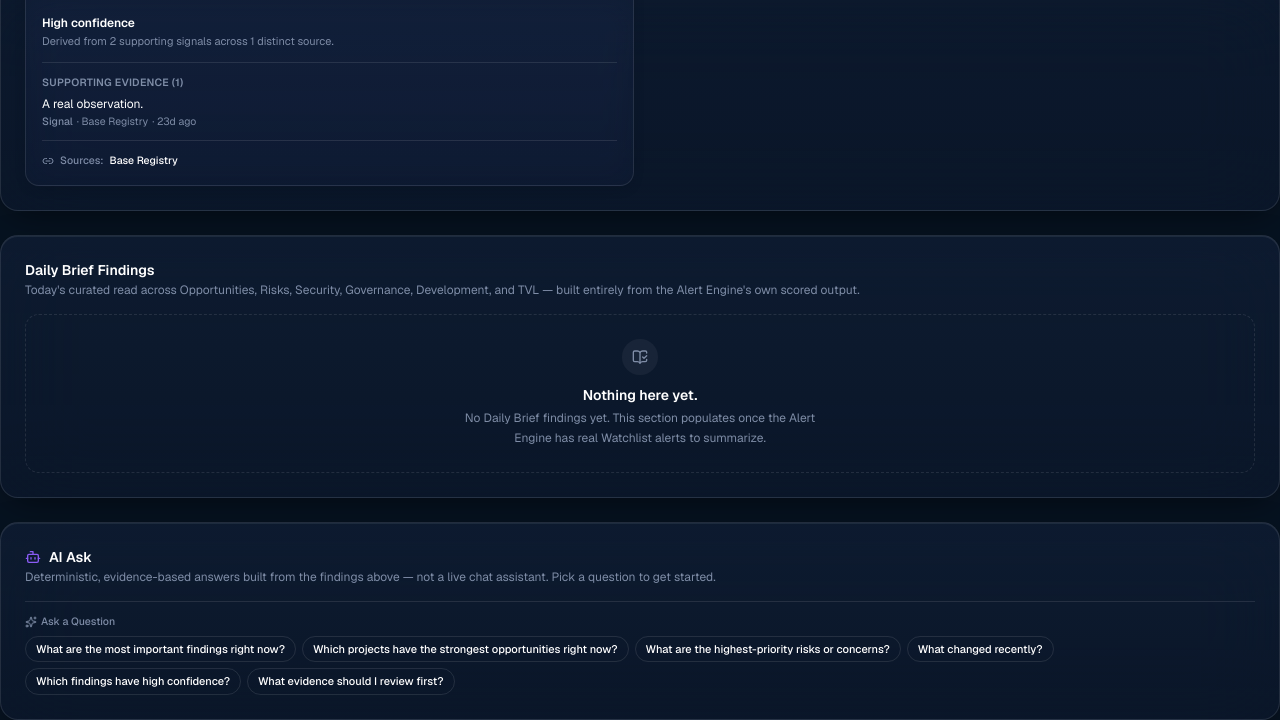
AIWorkspaceView — AI Ask is present and reuses the same composed view, never a second data path › asking 'What changed recently?' cites the same populated AI Intelligence claim already shown in the section above
The image size is (1280, 720).
(page scrolled)
Click the button "What changed recently?" at (980, 649), box [907,636,1054,662]
(page scrolled)
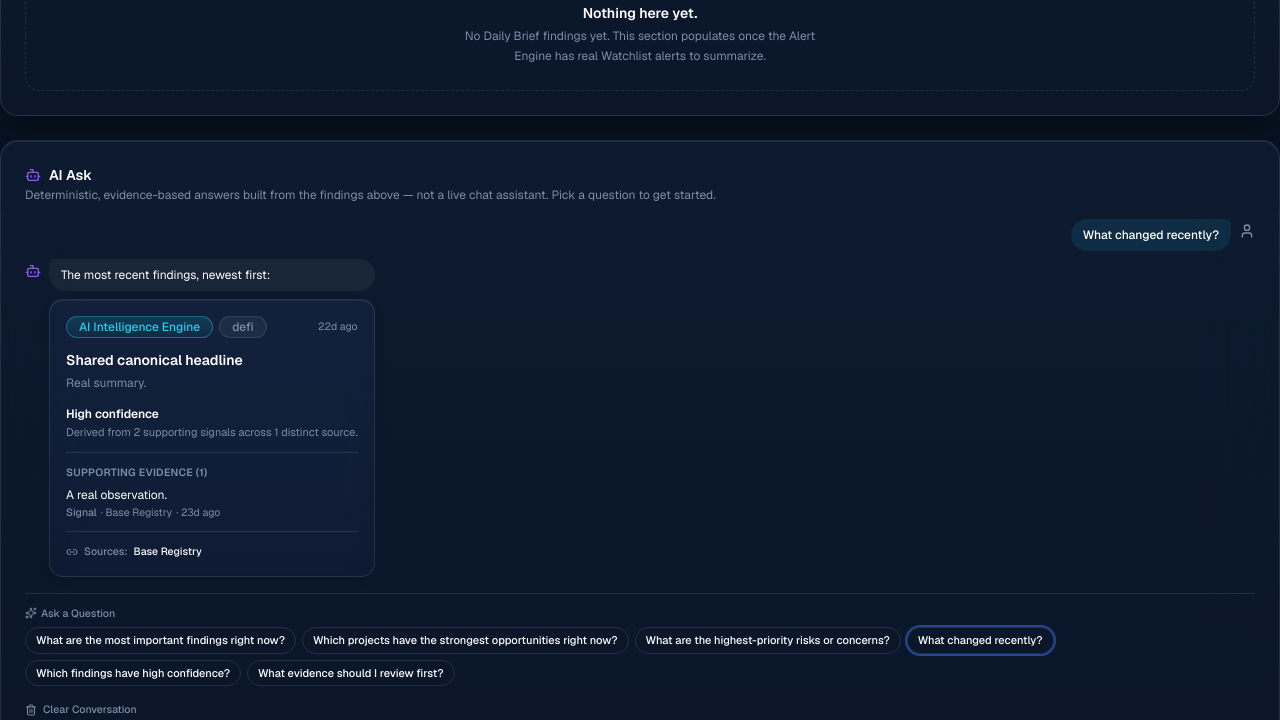
Expected: the heading "Shared canonical headline" is shown, [66,351,243,369]
